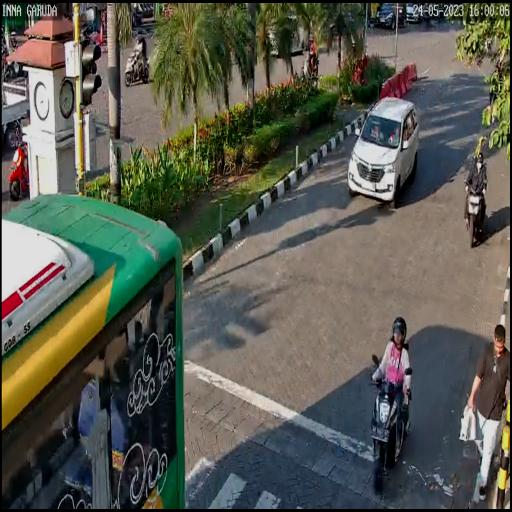mobil: (350, 91, 418, 215)
motor: (370, 346, 417, 496), (462, 166, 490, 249)
